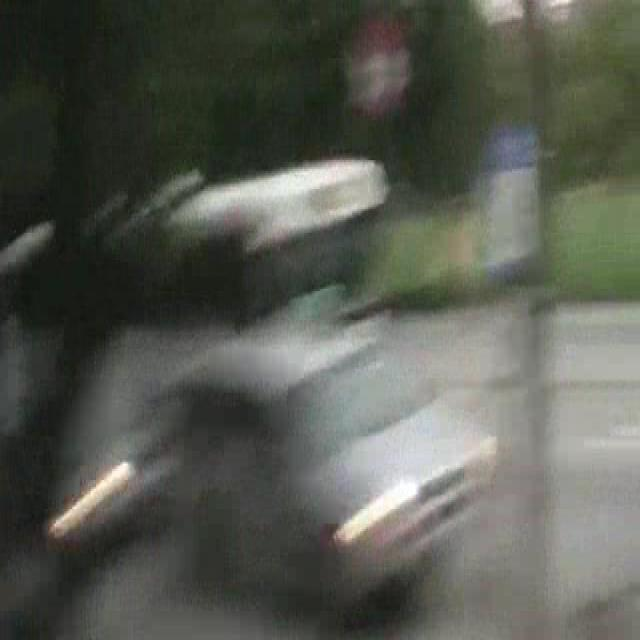other: (46, 459, 146, 548), (308, 471, 430, 542)
